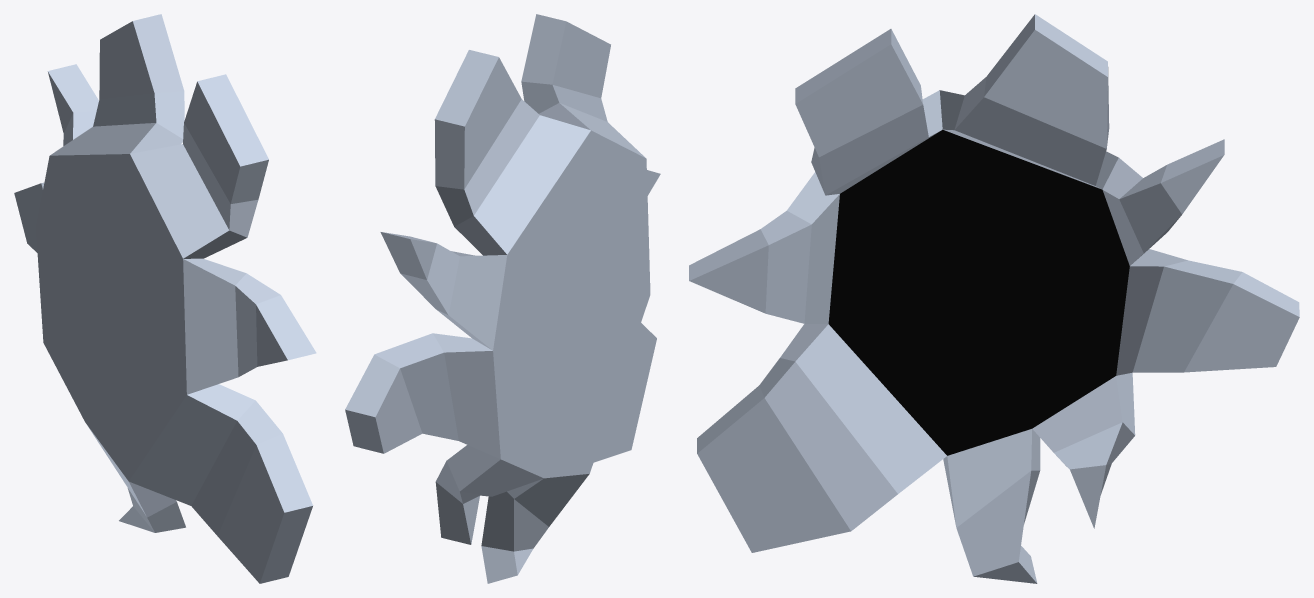
The model's file is hole.fbx.
3 views of the same model, side by side, from view 1: azimuth 30°, elevation 25°; view 2: azimuth 150°, elevation 25°; view 3: azimuth 270°, elevation 25° (orthographic). The views are drawn at different scales.
Parts seen in each view (by area): view 1: Plane.001; view 2: Plane.001; view 3: Plane.001.
Boxes of the visible parts, <box> form: Plane.001: <box>14,14,316,583</box>; Plane.001: <box>345,14,660,583</box>; Plane.001: <box>689,14,1299,583</box>.
Bounding box in the file's own units: 1.34 × 8.42 × 8.25.
